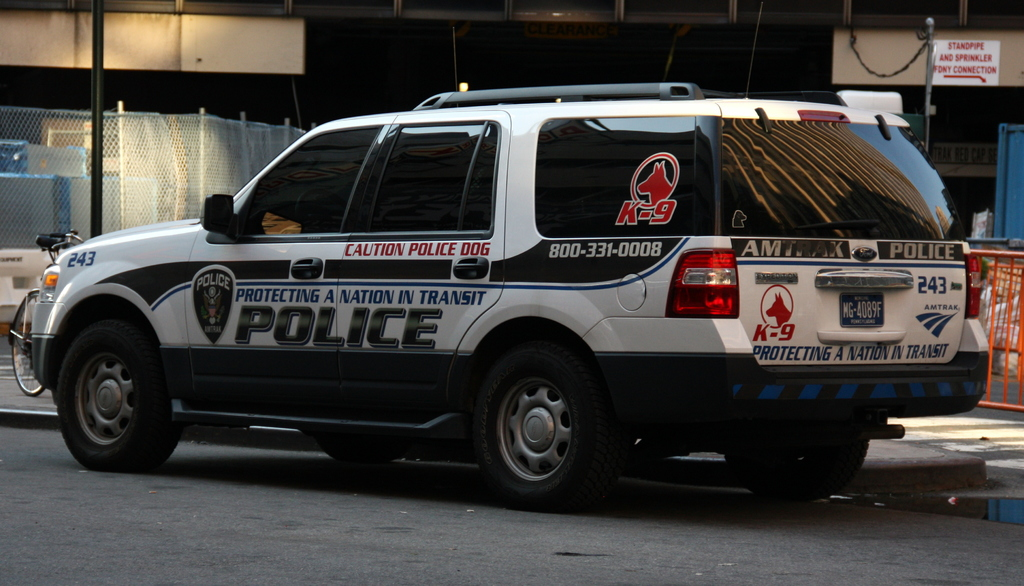Car: (29, 81, 992, 500)
